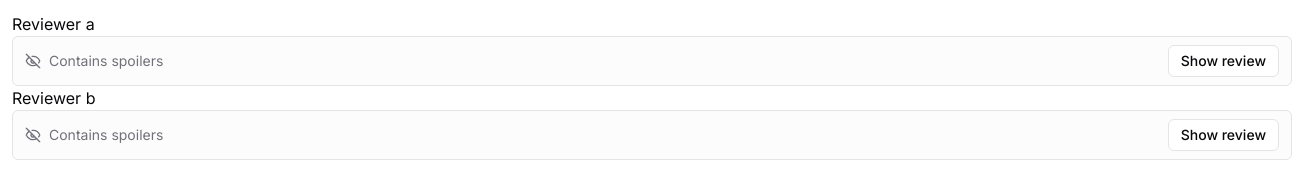
Scenario: SpoilerBarrier › protected text is not mounted until reveal; reveal is per card
Expected: the text "Secret text a" is not shown
Expected: the text "Reviewer a" is shown, [12, 14, 95, 34]
Click the 1st button "Show review" at point(1223, 61), box [1168, 45, 1279, 77]
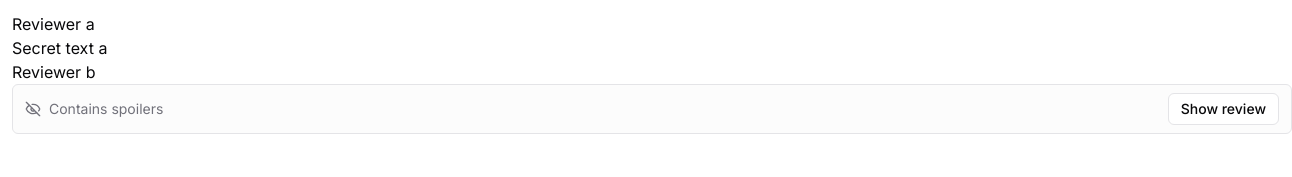
Now the text "Secret text a" is shown, box [12, 38, 107, 58]
